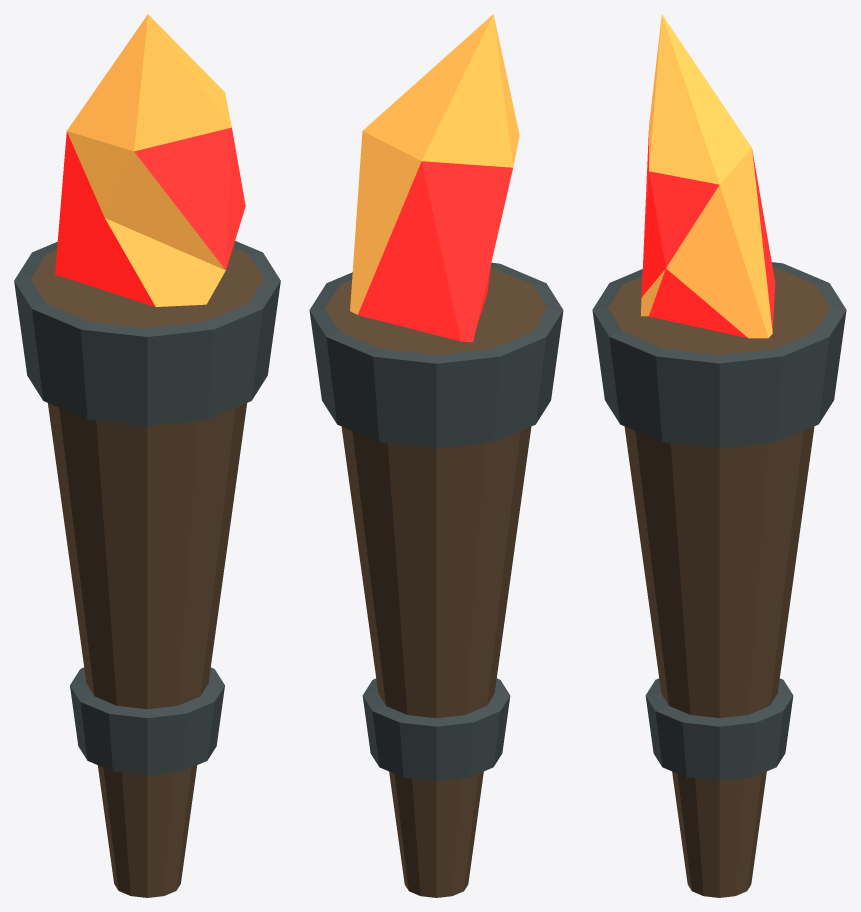
File: Torch_4_Brown.fbx
3 views of the same model, side by side, from view 1: azimuth 30°, elevation 25°; view 2: azimuth 150°, elevation 25°; view 3: azimuth 270°, elevation 25° (orthographic). The views are drawn at different scales.
Visible parts, largest first — view 1: Torch_4_Brown_Part_1, Torch_4_Brown_Part_2, Torch_4_Brown_Part_4, Torch_4_Brown_Part_3; view 2: Torch_4_Brown_Part_1, Torch_4_Brown_Part_2, Torch_4_Brown_Part_4, Torch_4_Brown_Part_3; view 3: Torch_4_Brown_Part_1, Torch_4_Brown_Part_2, Torch_4_Brown_Part_4, Torch_4_Brown_Part_3.
Boxes of the visible parts, x1,y1,x2,y2 form: Torch_4_Brown_Part_1: [31, 247, 263, 897]; Torch_4_Brown_Part_2: [14, 241, 280, 775]; Torch_4_Brown_Part_4: [67, 14, 231, 306]; Torch_4_Brown_Part_3: [55, 127, 245, 306]; Torch_4_Brown_Part_1: [325, 267, 547, 897]; Torch_4_Brown_Part_2: [309, 262, 563, 781]; Torch_4_Brown_Part_4: [350, 14, 519, 314]; Torch_4_Brown_Part_3: [358, 161, 512, 342]; Torch_4_Brown_Part_1: [608, 267, 830, 897]; Torch_4_Brown_Part_2: [592, 262, 846, 781]; Torch_4_Brown_Part_4: [641, 14, 772, 338]; Torch_4_Brown_Part_3: [641, 131, 775, 337].
Size of the model in its own units: 15.98 by 59.45 by 15.98.
